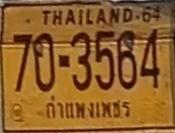0: (32, 32, 54, 91)
3: (70, 31, 91, 90)
4: (140, 28, 158, 87)
5: (94, 30, 114, 91)
6: (117, 30, 137, 90)
7: (13, 34, 32, 89)
KPT: (42, 93, 135, 121)
